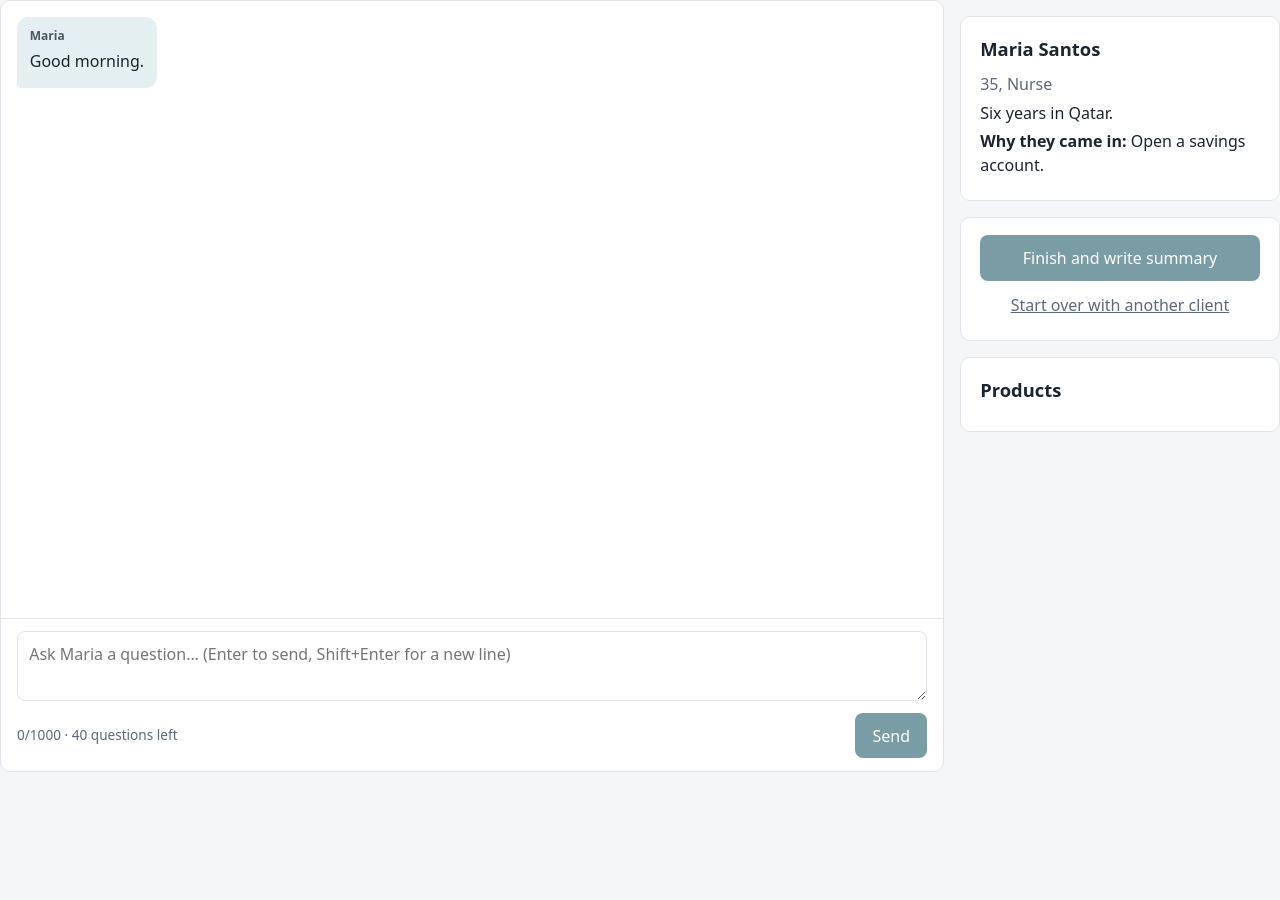
Test: interview › says it is still working when a reply is slow
In the text box named "Your question": (472, 666) x1=17 y1=631 x2=927 y2=701, type "Any plans?"
Then press Enter
Wait 15000 ms
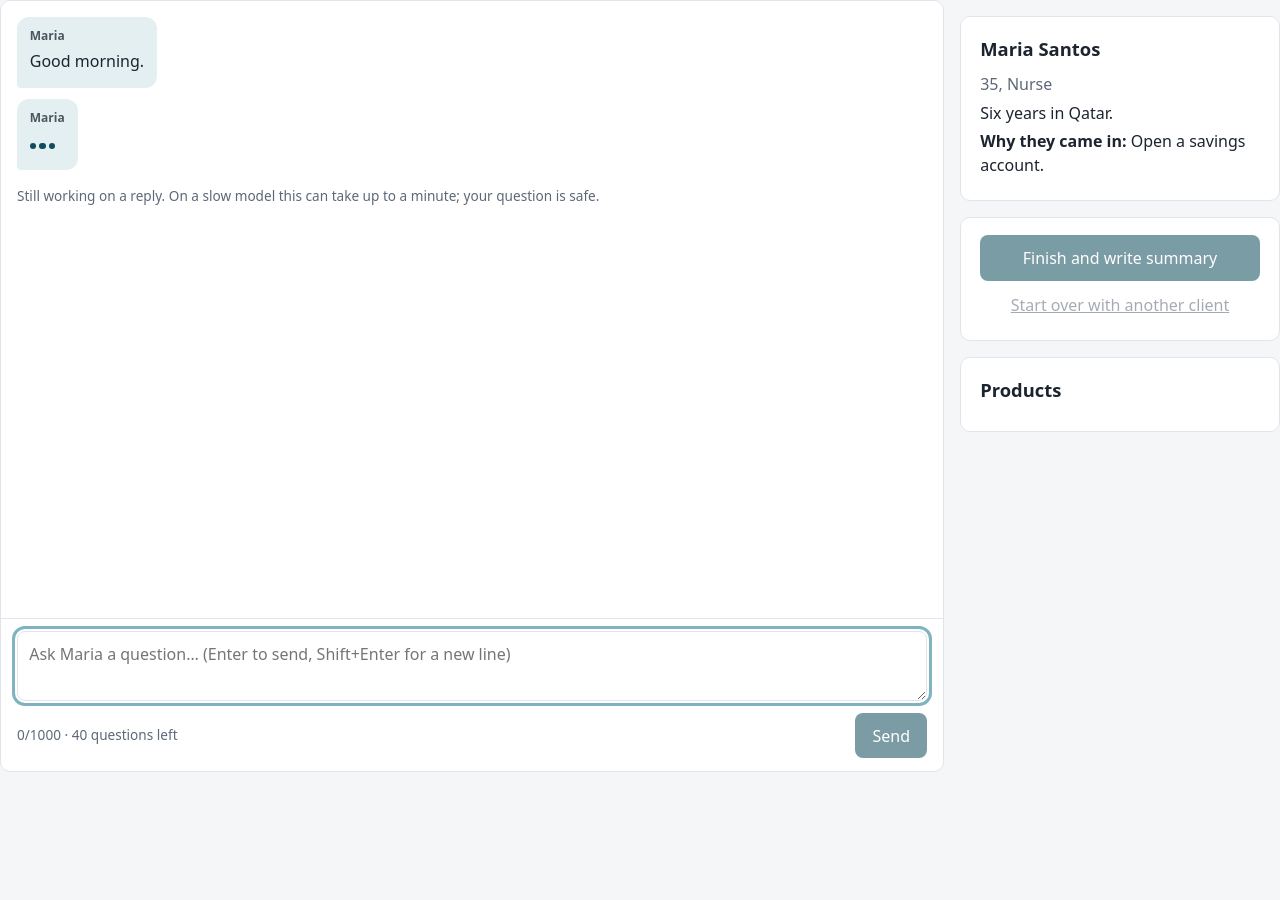
Expected: the text "Still working" is shown, x1=17 y1=186 x2=599 y2=205
